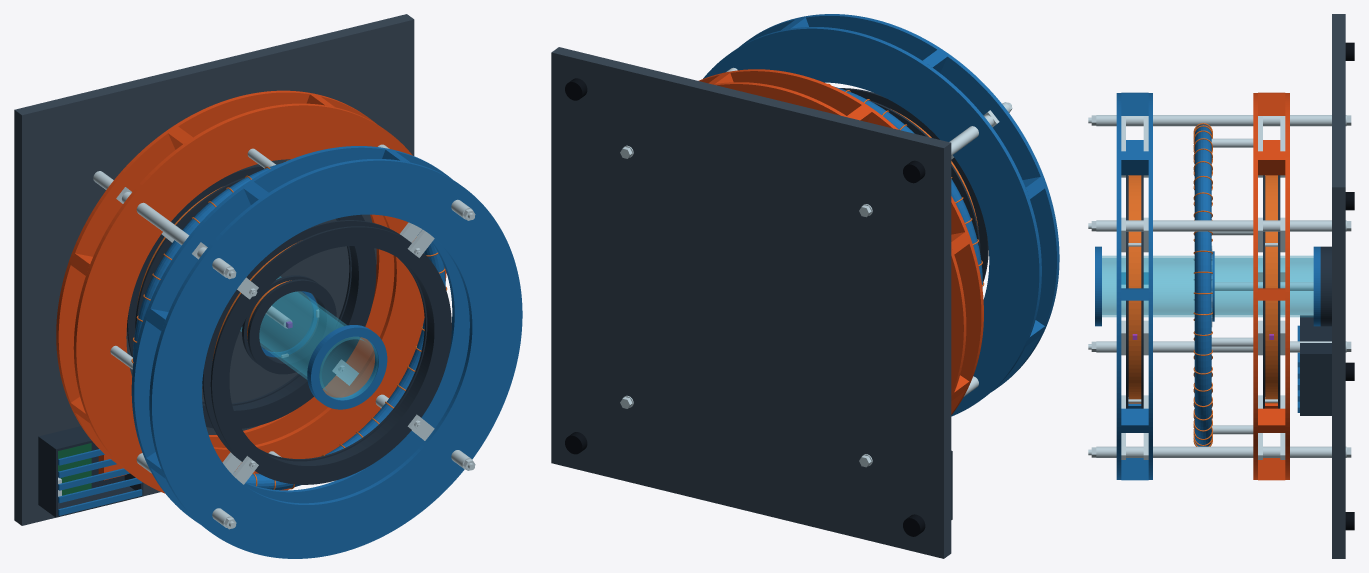
File: montagem_integral.obj
The picture shows the model from 3 angles, left to right: view 1: azimuth 30°, elevation 25°; view 2: azimuth 150°, elevation 25°; view 3: azimuth 270°, elevation 25°; orthographic projection. The views are drawn at different scales.
Parts seen in each view (by area): view 1: tampa_superior_cima, base_360x360x12, tampa_inferior_cima, carretel_superior, tampa_superior_baixo, tampa_inferior_baixo, carretel_inferior, coluna_transparente, carretel_receptor, fita_toroidal, colar_superior, controle_parede_1 (+5 smaller); view 2: base_360x360x12, tampa_superior_baixo, tampa_superior_cima, tampa_inferior_cima, tampa_inferior_baixo, carretel_superior, fita_toroidal; view 3: coluna_transparente, base_360x360x12, fita_toroidal, cobre_superior, cobre_inferior, tampa_superior_cima, tampa_inferior_baixo, tampa_inferior_cima, tampa_superior_baixo, controle_parede_2, espiras_toroidais, carretel_superior (+26 smaller).
Boxes of the visible parts, x1,y1,x2,y2 form: tampa_superior_cima: (149,159,522,558); base_360x360x12: (14,14,414,525); tampa_inferior_cima: (73,103,446,493); carretel_superior: (202,220,451,484); tampa_superior_baixo: (131,146,469,523); tampa_inferior_baixo: (56,90,394,468); carretel_inferior: (127,165,376,428); coluna_transparente: (240,276,378,399); carretel_receptor: (242,275,336,374); fita_toroidal: (133,163,445,490); colar_superior: (307,325,387,409); controle_parede_1: (39,437,57,517); base_360x360x12: (551,47,951,558); tampa_superior_baixo: (703,27,1041,416); tampa_superior_cima: (739,14,1059,391); tampa_inferior_cima: (698,69,983,414); tampa_inferior_baixo: (713,82,966,398); carretel_superior: (839,88,988,281); fita_toroidal: (834,86,982,288); coluna_transparente: (1102,256,1313,316); base_360x360x12: (1332,14,1345,558); fita_toroidal: (1194,124,1211,446); cobre_superior: (1128,175,1141,403); cobre_inferior: (1265,175,1277,403); tampa_superior_cima: (1116,93,1121,479); tampa_inferior_baixo: (1285,93,1289,479); tampa_inferior_cima: (1253,93,1257,479); tampa_superior_baixo: (1148,93,1152,479); controle_parede_2: (1300,353,1329,415); espiras_toroidais: (1193,123,1212,446); carretel_superior: (1126,175,1143,408).
Size of the model in its own units: 360 by 360 by 234.
